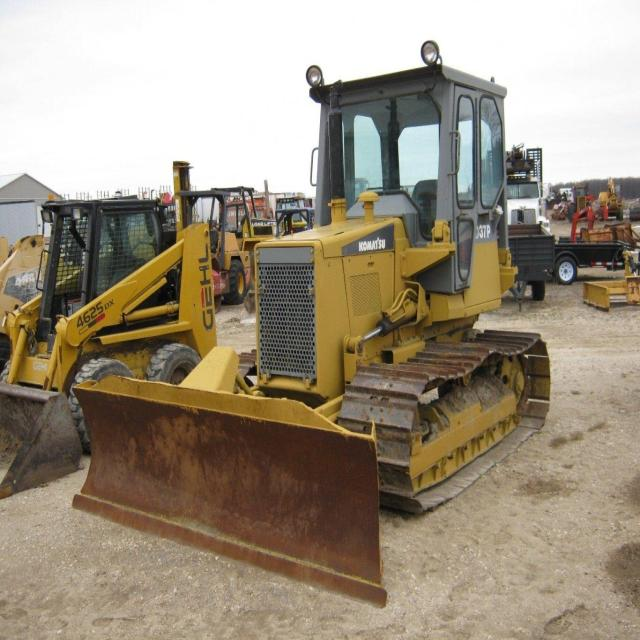buldozerpayloadergrader: (73, 38, 562, 605)
